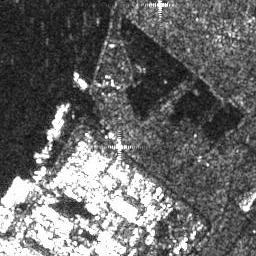ship: (1, 173, 22, 208), (51, 102, 70, 126), (71, 72, 89, 91)
